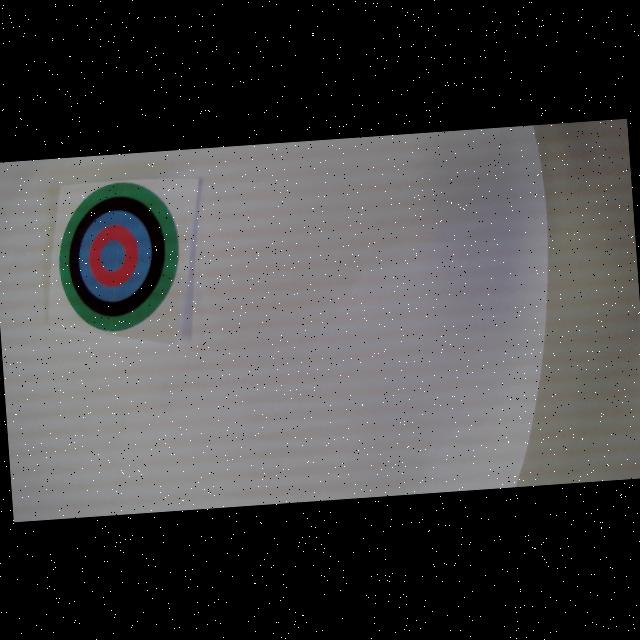COGNITIVE: (54, 177, 184, 335)
